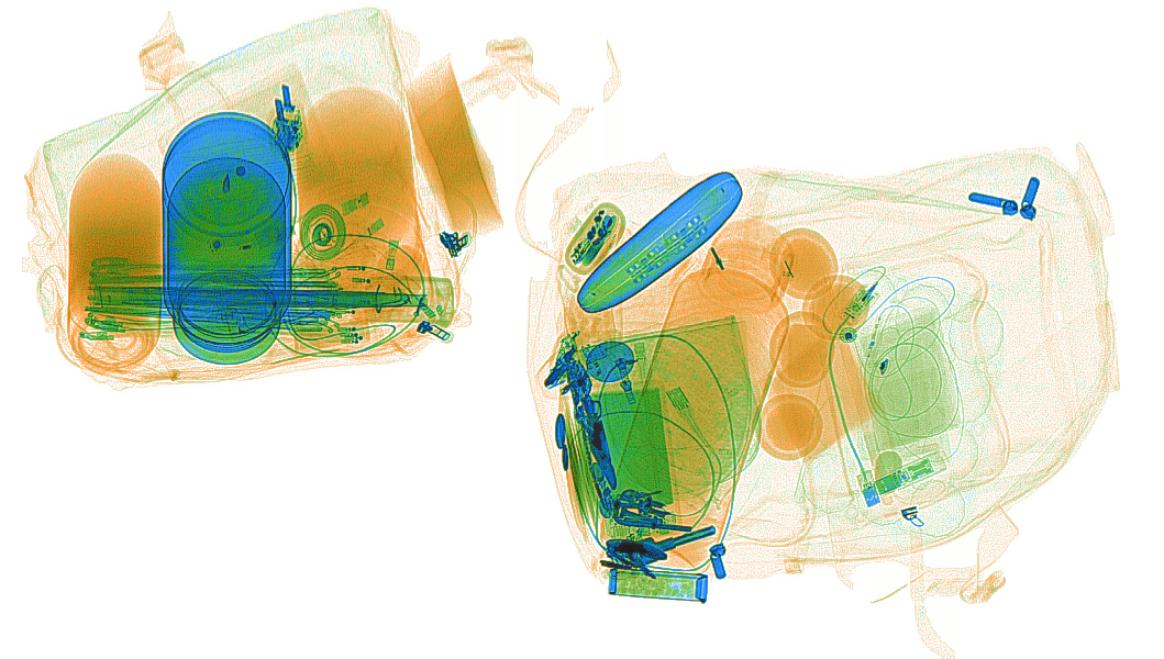USBFlashDisk: (869, 450, 950, 497)
